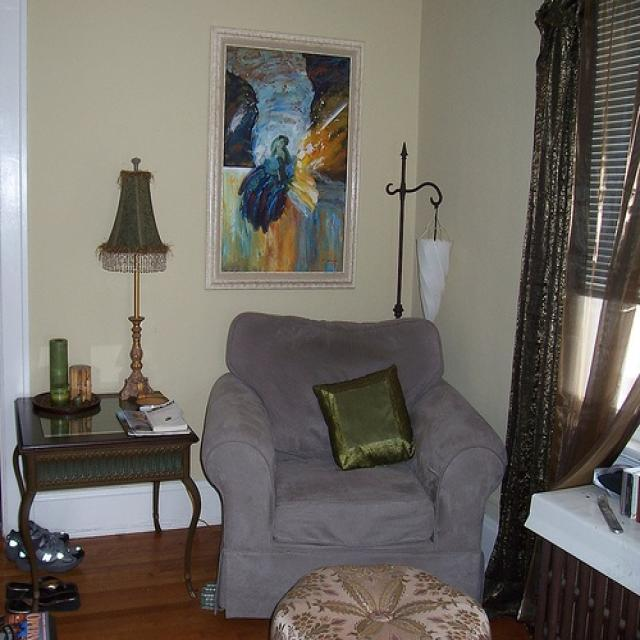chair: (200, 312, 508, 618)
